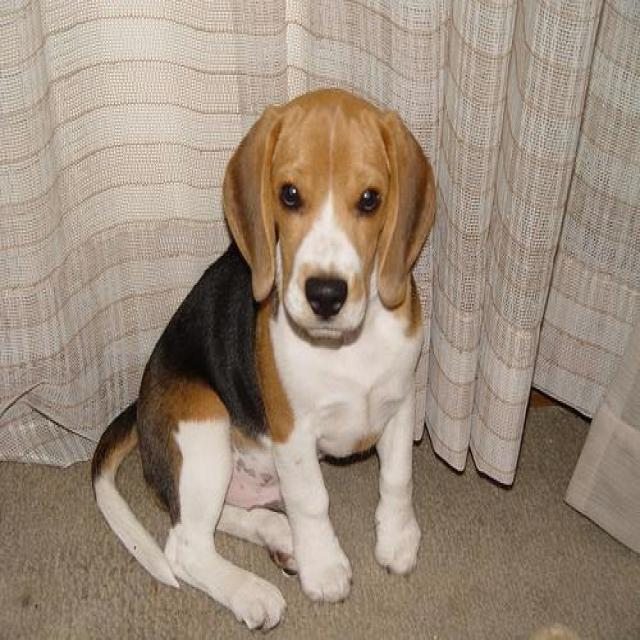beagle: (88, 86, 440, 638)
